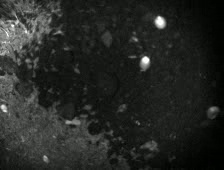corn: (137, 55, 153, 73), (205, 104, 221, 122), (153, 13, 169, 30), (40, 154, 52, 165), (1, 103, 10, 115)
